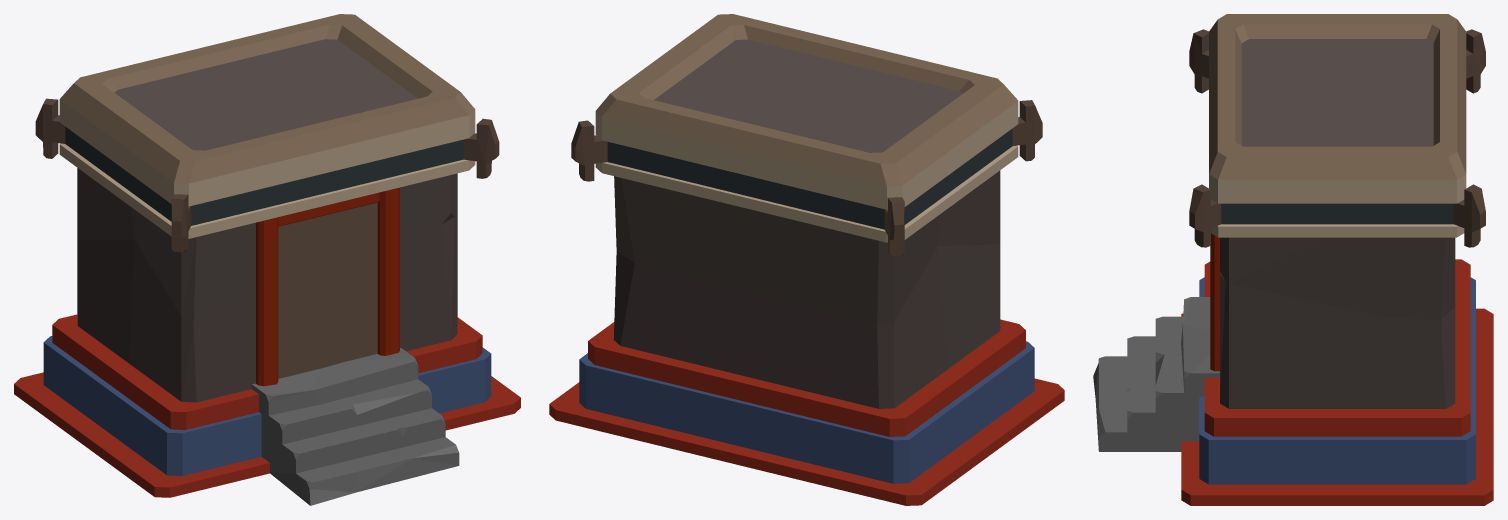
Rendered from Building_2.fbx.
3 renders of one model, left to right at view 1: azimuth 30°, elevation 25°; view 2: azimuth 150°, elevation 25°; view 3: azimuth 270°, elevation 25°, orthographic. The views are drawn at different scales.
Visible parts, largest first — view 1: Building_2; view 2: Building_2; view 3: Building_2.
Boxes of the visible parts, bbox=[...] form: Building_2: bbox=[14, 14, 520, 505]; Building_2: bbox=[549, 14, 1064, 505]; Building_2: bbox=[1093, 14, 1493, 505].
Bounding box in the file's own units: 4.5 × 3.7 × 4.09.
